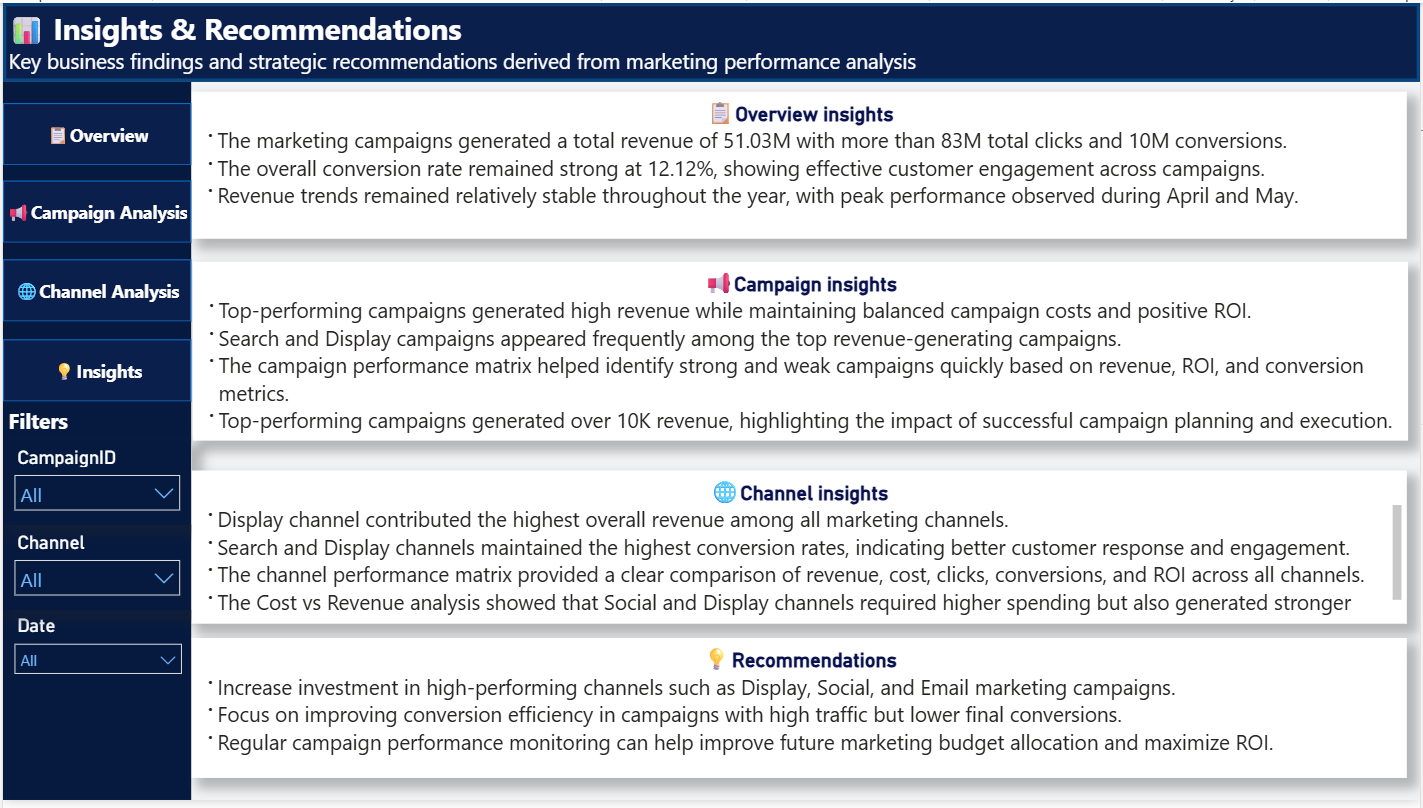

What the dashboard file says about the page in this screenshot:
{"tool":"powerbi","page":{"name":"Insights & Recommendations","canvas":[1280,720],"ordinal":3},"visuals":[{"type":"shape","box":[0,71.1,170,648.9],"z":0},{"type":"textbox","box":[0,0,274.4,71.1],"z":1000},{"type":"shape","box":[0,0,1280,71.1],"z":2000},{"type":"textbox","box":[0,0,1032,71.1],"z":3000},{"type":"slicer","fields":{"Values":["marketing_campaign_performance_.StartDate.Variation.Date Hierarchy.Year","marketing_campaign_performance_.StartDate.Variation.Date Hierarchy.Quarter","marketing_campaign_performance_.StartDate.Variation.Date Hierarchy.Month"]},"box":[0,547.1,171.4,71.4],"z":4000},{"type":"slicer","fields":{"Values":["marketing_campaign_performance_.CampaignID"]},"box":[0,395.7,170,75.7],"z":5000},{"type":"slicer","fields":{"Values":["marketing_campaign_performance_.Channel"]},"box":[0,471.4,170,75.7],"z":6000},{"type":"textbox","box":[0,360,170,35.7],"z":7000},{"type":"textbox","title":"📋Overview insights","box":[170,80,1097.5,132.5],"z":8000},{"type":"textbox","title":"📢Campaign insights","box":[171.2,233.8,1097.5,161.2],"z":9000},{"type":"textbox","title":"🌐Channel insights","box":[170,422.5,1097.5,138.8],"z":10000},{"type":"textbox","title":"💡Recommendations ","box":[170,573.8,1097.5,126.2],"z":11000},{"type":"shape","box":[0,90,170,56.2],"z":13000},{"type":"shape","box":[0,160,170,56.2],"z":14000},{"type":"shape","box":[0,231.2,170,56.2],"z":15000},{"type":"shape","box":[0,303.8,170,56.2],"z":16000}]}

Visuals, with their boxes in screenshot pixels (x1, y1, x2, y2), scaled from the page's 1280x720 canvas onto the 1423x808 screenshot:
shape: detection(0, 80, 189, 807)
textbox: detection(0, 0, 305, 80)
shape: detection(0, 0, 1422, 80)
textbox: detection(0, 0, 1147, 80)
slicer - marketing_campaign_performance_.StartDate.Variation.Date Hierarchy.Year x marketing_campaign_performance_.StartDate.Variation.Date Hierarchy.Quarter: detection(0, 614, 191, 694)
slicer - marketing_campaign_performance_.CampaignID: detection(0, 444, 189, 529)
slicer - marketing_campaign_performance_.Channel: detection(0, 529, 189, 614)
textbox: detection(0, 404, 189, 444)
"📋Overview insights" textbox: detection(189, 90, 1409, 238)
"📢Campaign insights" textbox: detection(190, 262, 1410, 443)
"🌐Channel insights" textbox: detection(189, 474, 1409, 630)
"💡Recommendations " textbox: detection(189, 644, 1409, 786)
shape: detection(0, 101, 189, 164)
shape: detection(0, 180, 189, 243)
shape: detection(0, 259, 189, 323)
shape: detection(0, 341, 189, 404)
